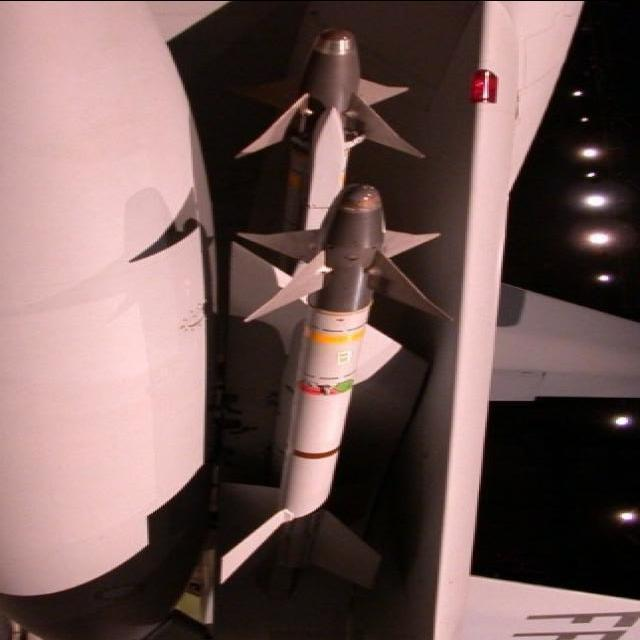missile: (256, 177, 432, 528), (242, 26, 426, 244)
